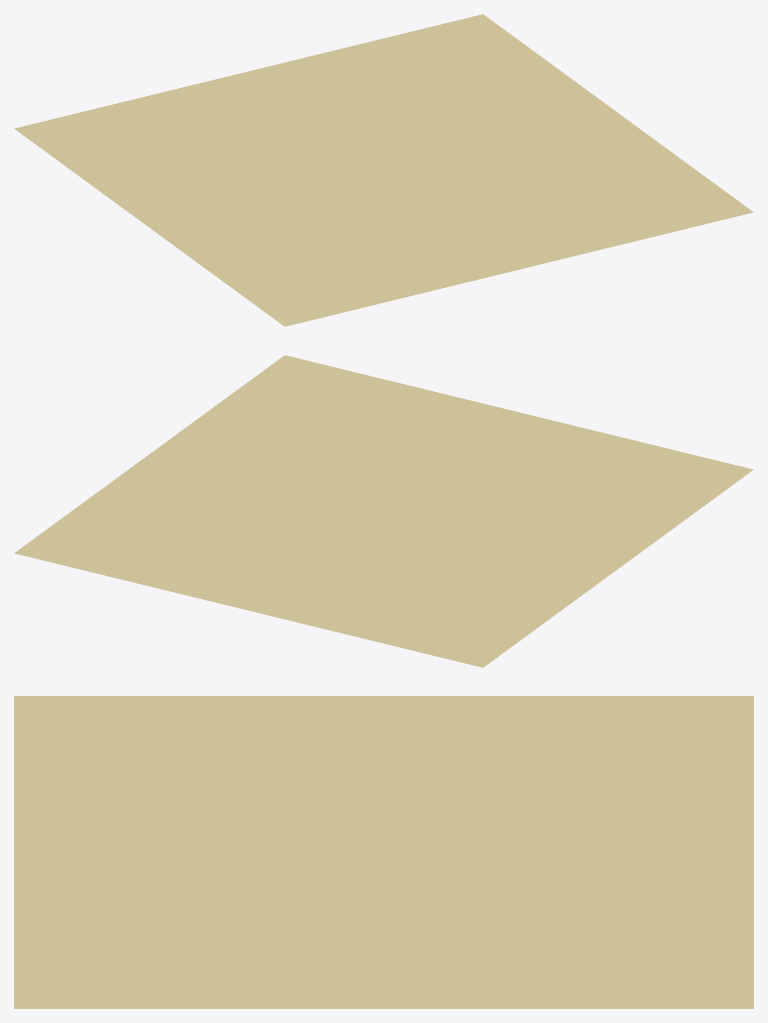
Rendered from Ground.fbx.
3 views of the same model, one above another, from view 1: azimuth 30°, elevation 25°; view 2: azimuth 150°, elevation 25°; view 3: azimuth 270°, elevation 25° (orthographic). The views are drawn at different scales.
Parts seen in each view (by area): view 1: pPlane2; view 2: pPlane2; view 3: pPlane2.
Part boxes in pixels (x1,y1,x2,y2): pPlane2: (14,14,753,326); pPlane2: (14,355,753,667); pPlane2: (14,696,753,1008).
Bounding box in the file's own units: 239 × 0.1 × 239.
